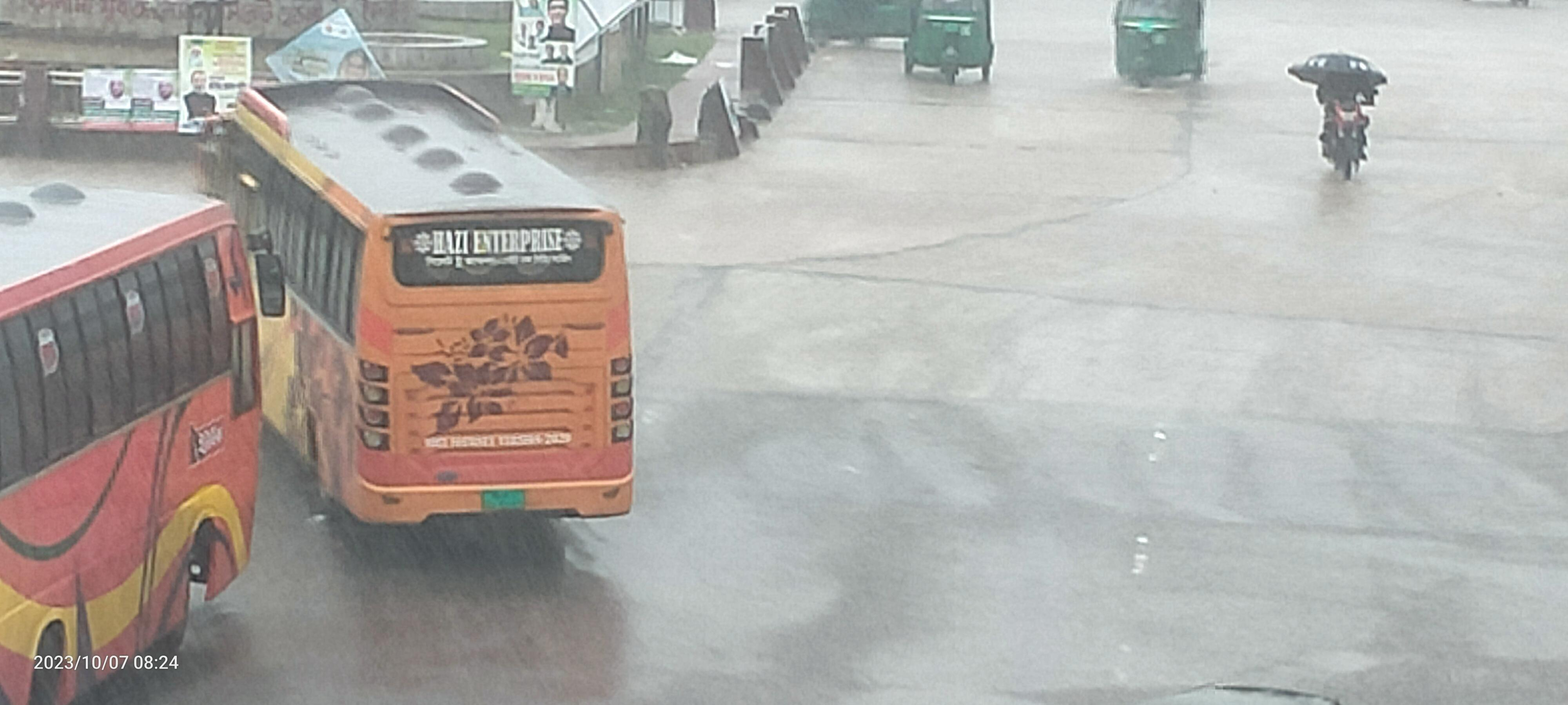Bike: (1284, 19, 1403, 212)
Bus: (172, 42, 654, 555), (0, 138, 306, 700)
